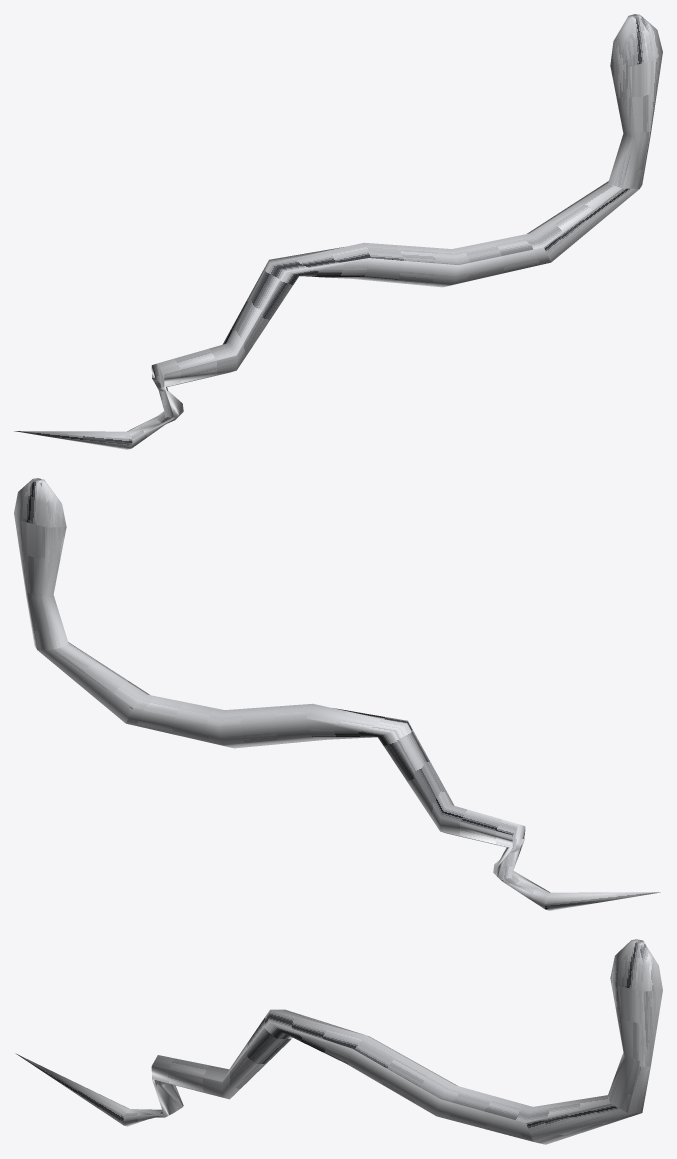
Rendered from snake_000021.obj.
The picture shows the model from 3 angles, top to bottom: view 1: azimuth 30°, elevation 25°; view 2: azimuth 150°, elevation 25°; view 3: azimuth 330°, elevation 25°; orthographic projection.
Visible parts, largest first — view 1: Cylinder; view 2: Cylinder; view 3: Cylinder.
Boxes of the visible parts, left/top/right/bottom form: Cylinder: left=14, top=14, right=662, bottom=449; Cylinder: left=14, top=478, right=660, bottom=910; Cylinder: left=15, top=939, right=662, bottom=1144.
Size of the model in its own units: 7.71 by 3.5 by 0.3671.
